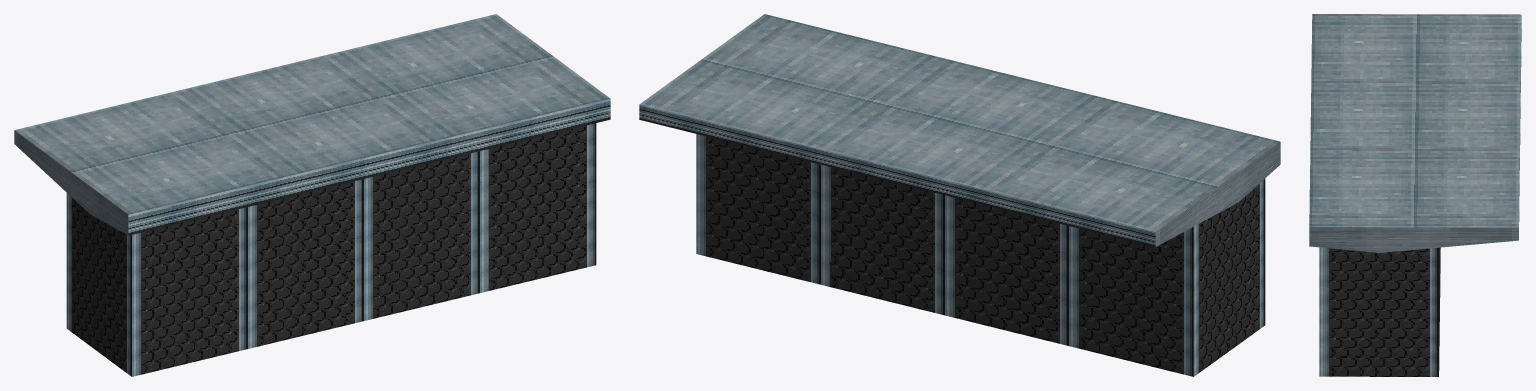
Rendered from primary_125.glb.
The picture shows the model from 3 angles, left to right: view 1: azimuth 30°, elevation 25°; view 2: azimuth 150°, elevation 25°; view 3: azimuth 270°, elevation 25°; orthographic projection. The views are drawn at different scales.
Visible parts, largest first — view 1: Object; view 2: Object; view 3: Object.
Part boxes in pixels (left/top/right/bottom): Object: left=14, top=14, right=610, bottom=376; Object: left=639, top=14, right=1280, bottom=376; Object: left=1309, top=14, right=1521, bottom=376.
Bounding box in the file's own units: 3.05 × 1.02 × 1.28.
Materials: 3 (3 with a texture image).
